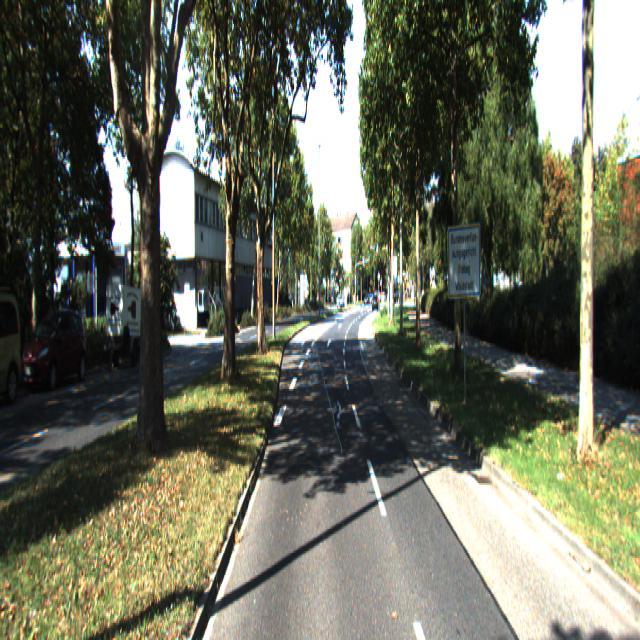Car: (24, 310, 90, 397), (106, 282, 146, 373), (0, 295, 27, 413)
